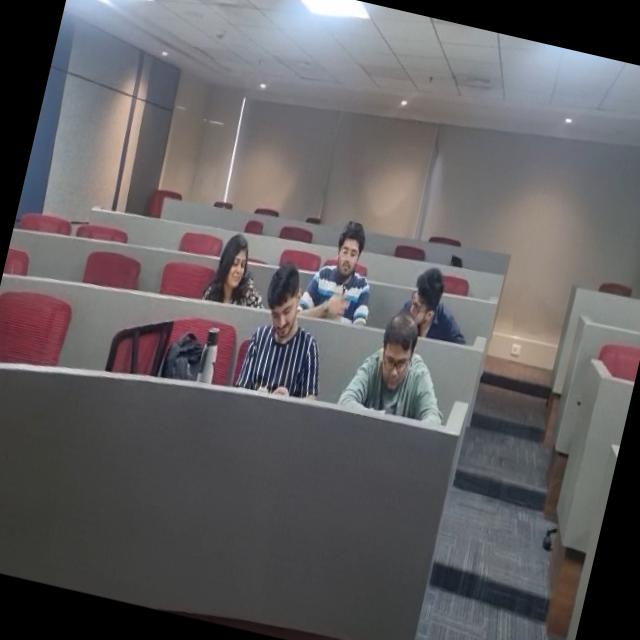cheating: (234, 228, 329, 404), (291, 199, 399, 337), (392, 242, 492, 340), (190, 224, 282, 323)
non-cheating: (340, 288, 466, 428)
